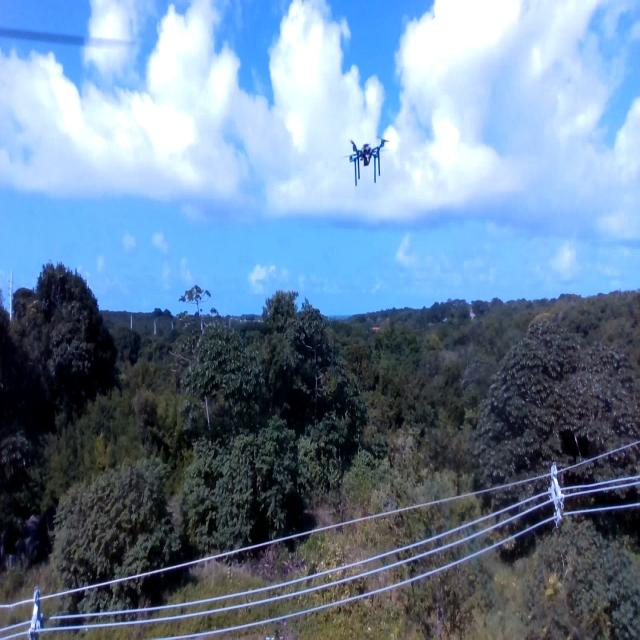-uav-: (335, 120, 395, 192)
